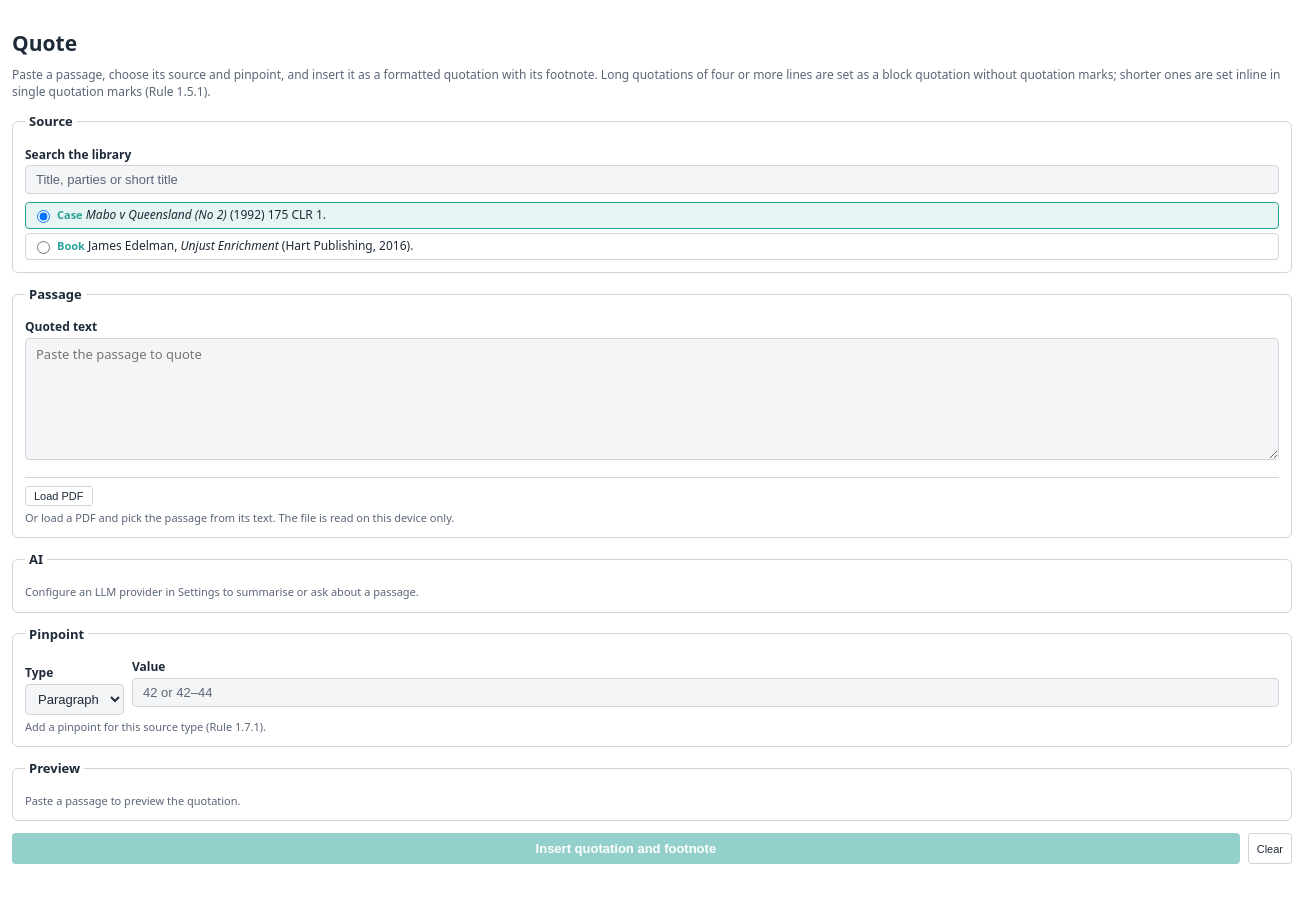
Test: Quote panel (ENP-010) › a long passage with a paragraph marker inserts a block quotation and a pinpointed footnote
Expected: the radio button labelled "Case Mabo v Queensland (No 2) (1992) 175 CLR 1." is checked, [37, 210, 50, 223]
Type "[42] The common law of Australia recognises a form of native title which, in the cases where it has not been extinguished, reflects the entitlement of the indigenous inhabitants, in accordance with th" into the text box labelled "Quoted text".
click(652, 399); type("[42] The common law of Australia recognises a form of native title which, in the cases where it has not been extinguished, reflects the entitlement of the indigenous inhabitants, in accordance with th")  # box [25, 338, 1279, 460]
(page scrolled)
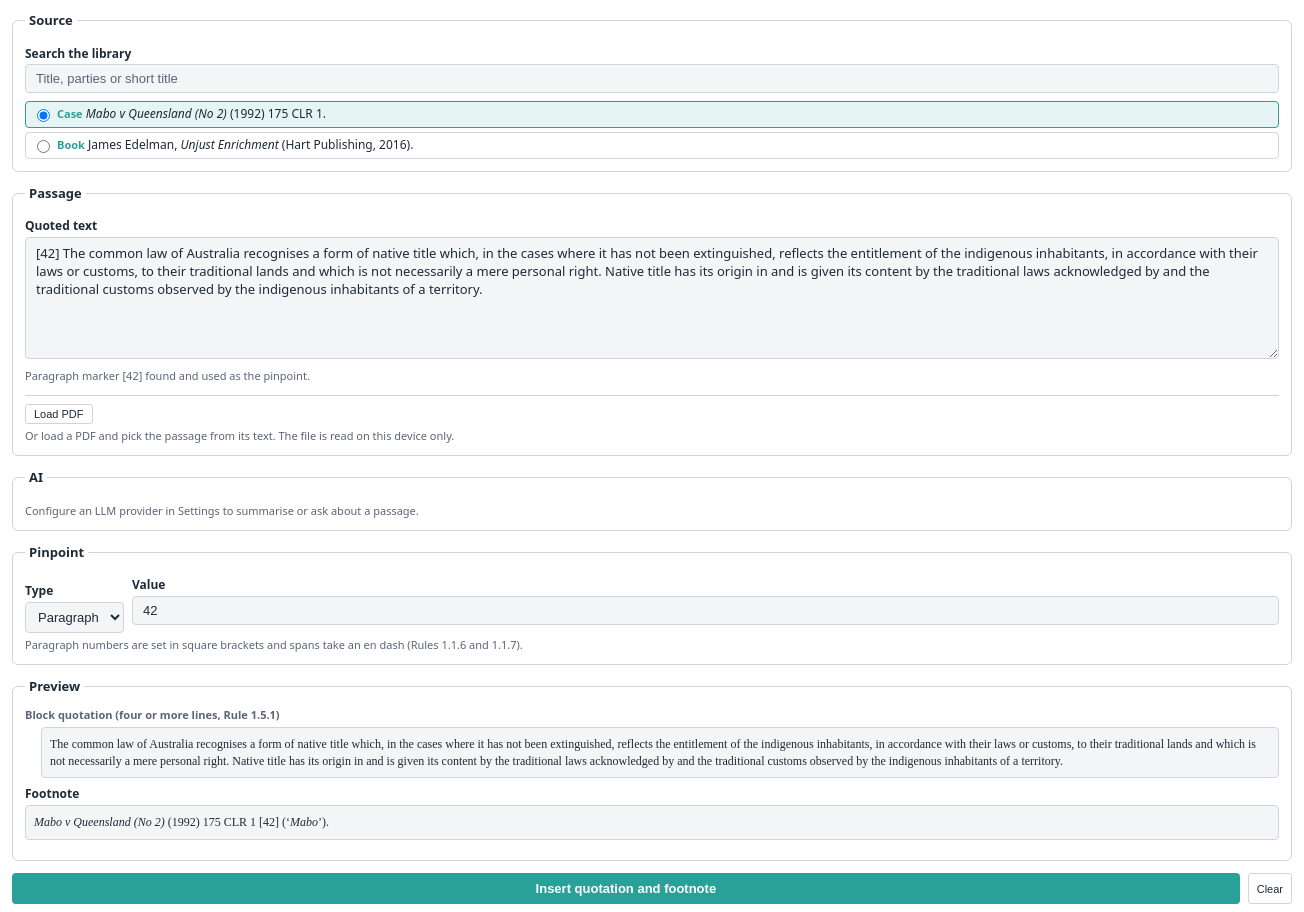
Expected: the text "Paragraph marker [42] found and used as the pinpoint." is shown, [25, 368, 310, 383]
Expected: the field labelled "Value" holds "42", [132, 596, 1279, 625]
Expected: the text "Block quotation (four or more lines, Rule 1.5.1)" is shown, [25, 708, 280, 722]
Click the button "Insert quotation and footnote".
click(626, 889)  # box [12, 873, 1240, 904]
(page scrolled)
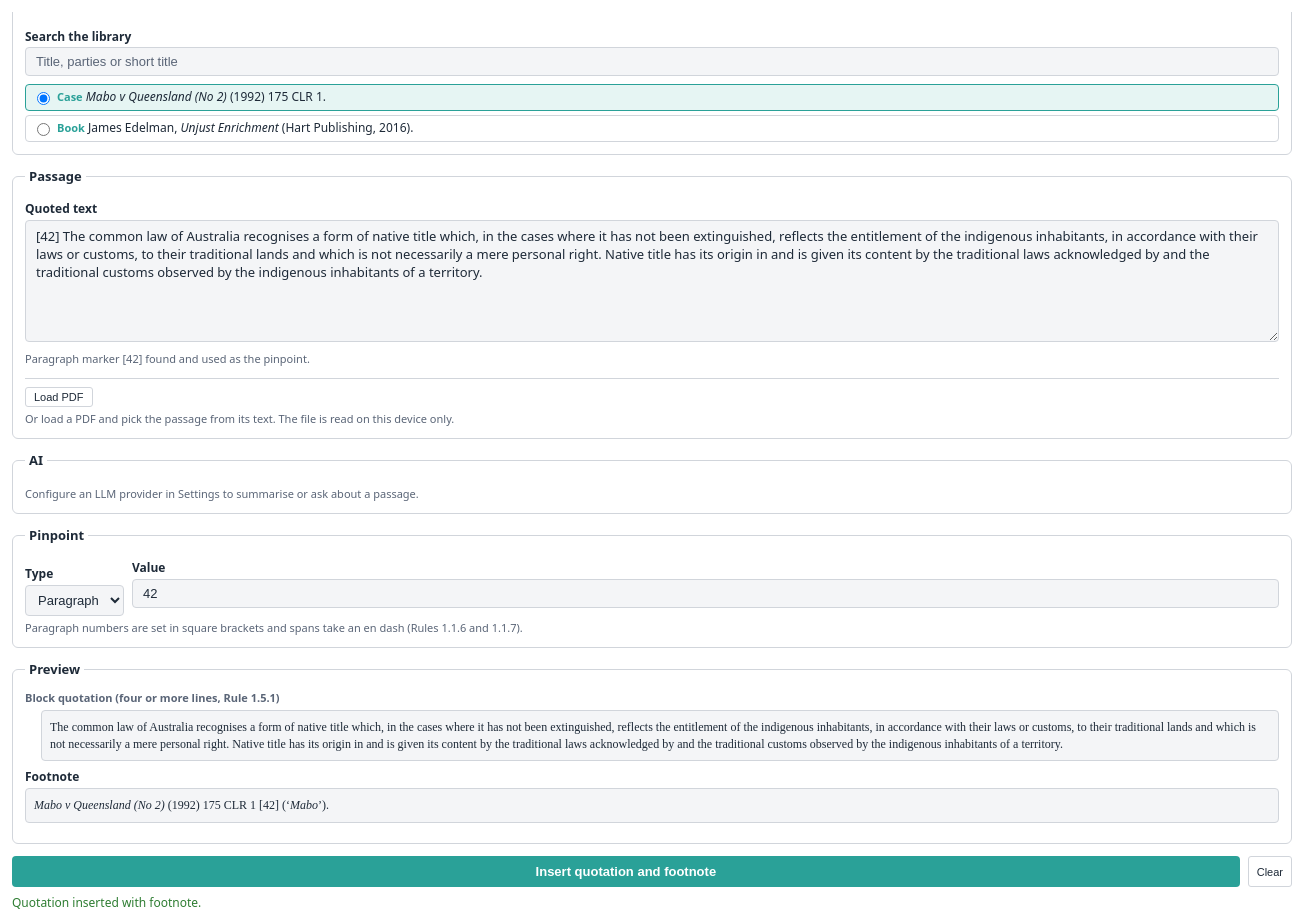
Expected: the text "Quotation inserted with footnote." is shown, [12, 894, 201, 911]
